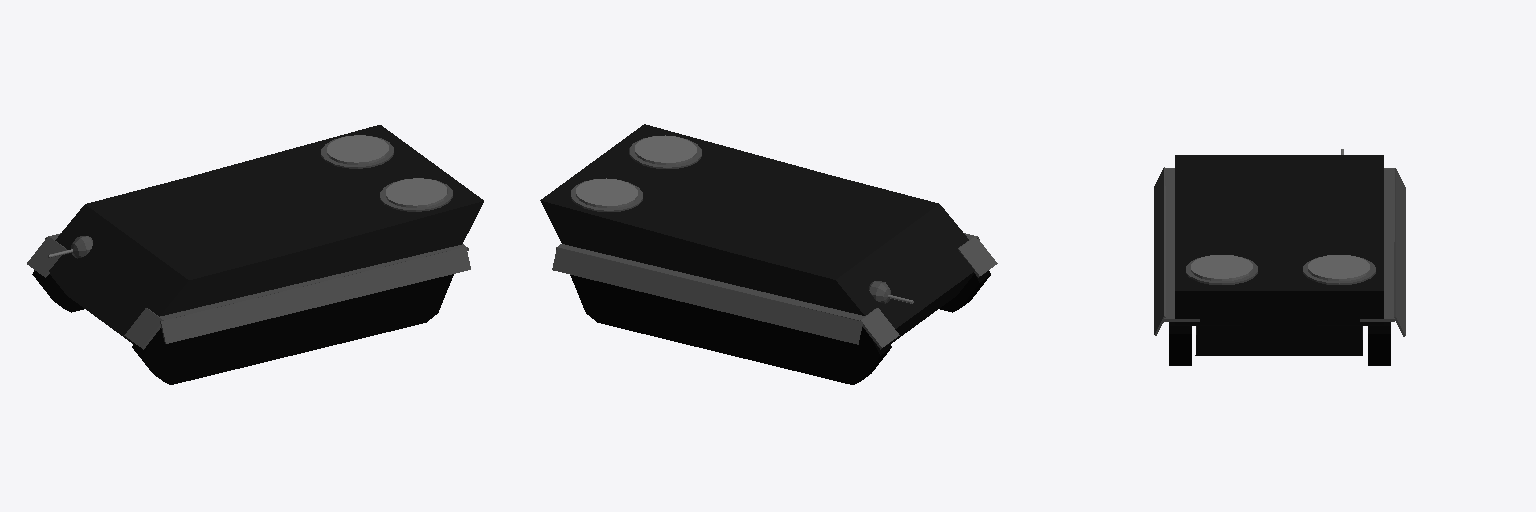
The model's file is enemytankbody02.obj.
3 views of the same model, side by side, from view 1: azimuth 30°, elevation 25°; view 2: azimuth 150°, elevation 25°; view 3: azimuth 270°, elevation 25° (orthographic).
Parts seen in each view (by area): view 1: Box001, Box009, Box011, Cylinder004, Cylinder003, Box002, Box004, Box007, Box006; view 2: Box001, Box006, Box010, Box008, Cylinder004, Cylinder003, Box007, Box004, Box009; view 3: Box001, Box011, Box010, Box008, Box002, Cylinder004, Cylinder003, Box006, Box009.
Boxes of the visible parts, x1=… form: Box001: x1=49, y1=125, x2=483, y2=343; Box009: x1=132, y1=274, x2=453, y2=384; Box011: x1=160, y1=247, x2=470, y2=343; Cylinder004: x1=327, y1=135, x2=388, y2=164; Cylinder003: x1=386, y1=178, x2=447, y2=207; Box002: x1=147, y1=244, x2=468, y2=319; Box004: x1=124, y1=308, x2=163, y2=349; Box007: x1=27, y1=236, x2=65, y2=277; Box006: x1=32, y1=270, x2=83, y2=312; Box001: x1=540, y1=124, x2=974, y2=343; Box006: x1=570, y1=275, x2=891, y2=384; Box010: x1=552, y1=247, x2=862, y2=344; Box008: x1=556, y1=244, x2=876, y2=320; Cylinder004: x1=576, y1=178, x2=637, y2=207; Cylinder003: x1=635, y1=135, x2=696, y2=164; Box007: x1=860, y1=308, x2=899, y2=349; Box004: x1=959, y1=236, x2=997, y2=277; Box009: x1=940, y1=271, x2=990, y2=312; Box001: x1=1175, y1=155, x2=1383, y2=355; Box011: x1=1154, y1=167, x2=1165, y2=335; Box010: x1=1394, y1=168, x2=1405, y2=336; Box008: x1=1360, y1=169, x2=1394, y2=321; Box002: x1=1164, y1=169, x2=1199, y2=321; Cylinder004: x1=1308, y1=255, x2=1369, y2=280; Cylinder003: x1=1191, y1=255, x2=1252, y2=280; Box006: x1=1368, y1=322, x2=1390, y2=365; Box009: x1=1169, y1=322, x2=1191, y2=365.
Size of the model in its own units: 69.21 by 20.42 by 42.78.